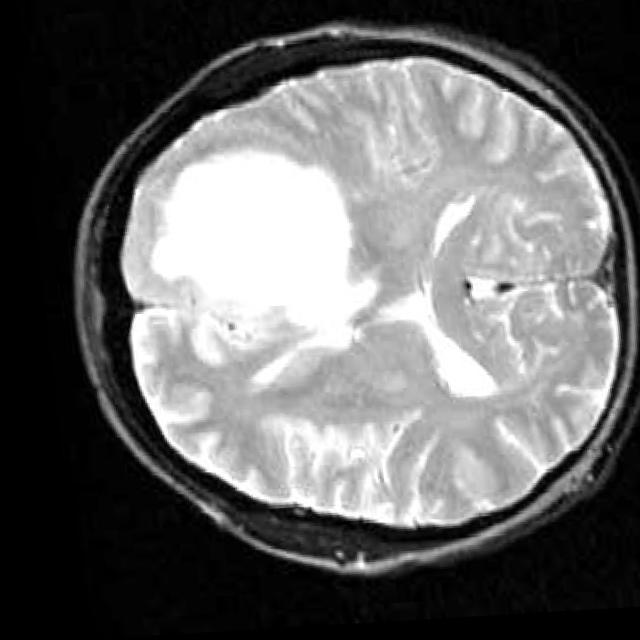Tumor: (141, 156, 341, 353)
